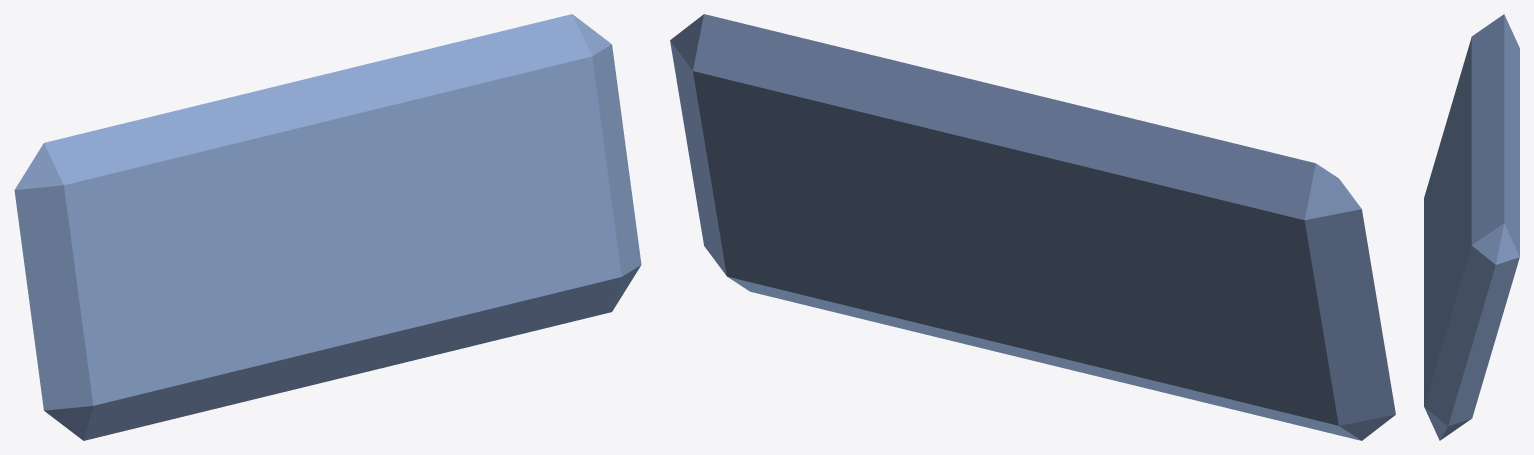
Rendered from pillowBlueLong.glb.
3 views of the same model, side by side, from view 1: azimuth 30°, elevation 25°; view 2: azimuth 150°, elevation 25°; view 3: azimuth 270°, elevation 25° (orthographic). The views are drawn at different scales.
Visible parts, largest first — view 1: pillowBlueLong; view 2: pillowBlueLong; view 3: pillowBlueLong.
Part boxes in pixels (x1,y1,x2,y2): pillowBlueLong: (14, 14, 641, 440); pillowBlueLong: (670, 14, 1395, 440); pillowBlueLong: (1424, 14, 1519, 440).
Bounding box in the file's own units: 0.5166 × 0.2222 × 0.0885.
